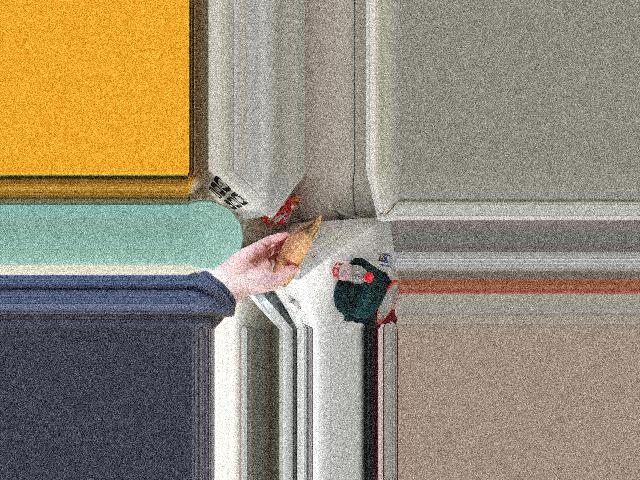sweet_potato: (267, 234, 312, 280)
